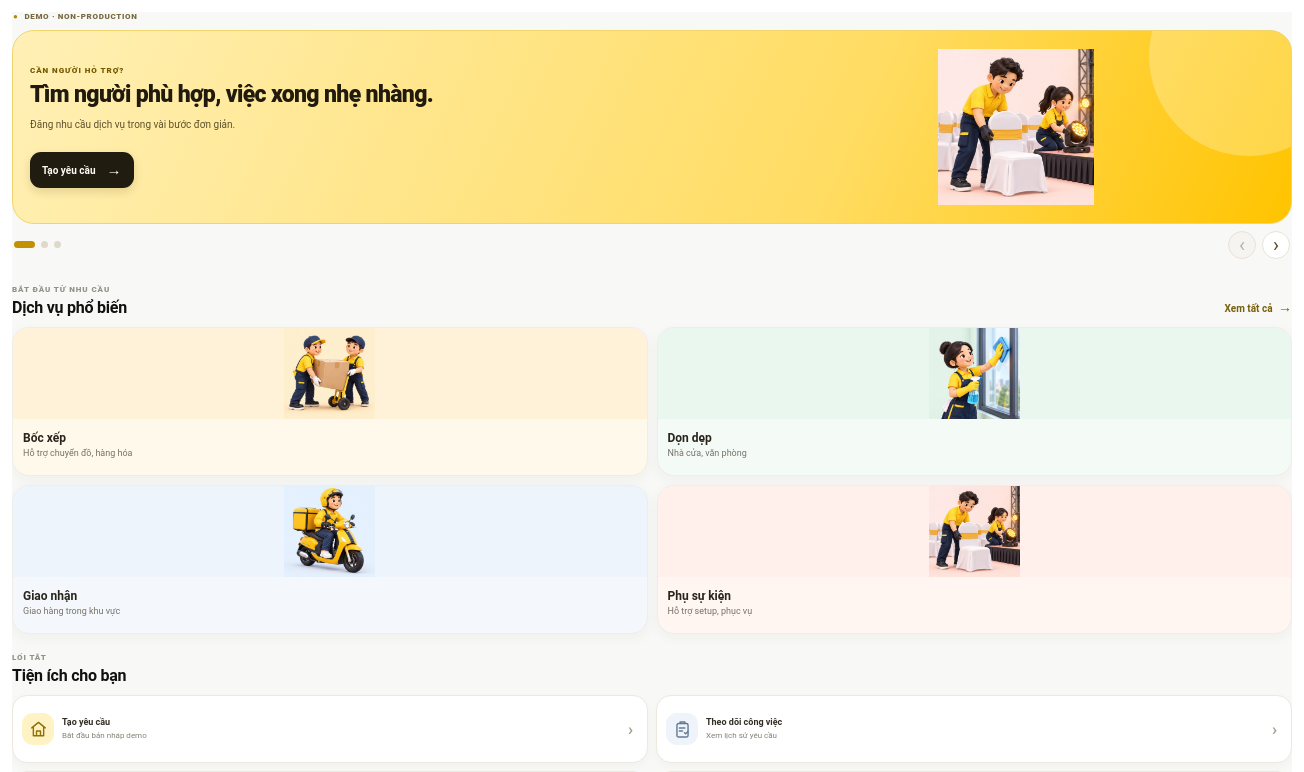
Employer Home marketplace refinement › keeps every banner title as complete natural-wrapping text with a local image source
Expected: the heading "Tìm người phù hợp, việc xong nhẹ nhàng." is shown, [30, 81, 433, 108]
Expected: the button "Tạo yêu cầu →" is shown, [30, 152, 134, 188]
Click the button named "Banner 2: Cần hỗ trợ bốc xếp?": point(44, 244) [41, 241, 48, 248]
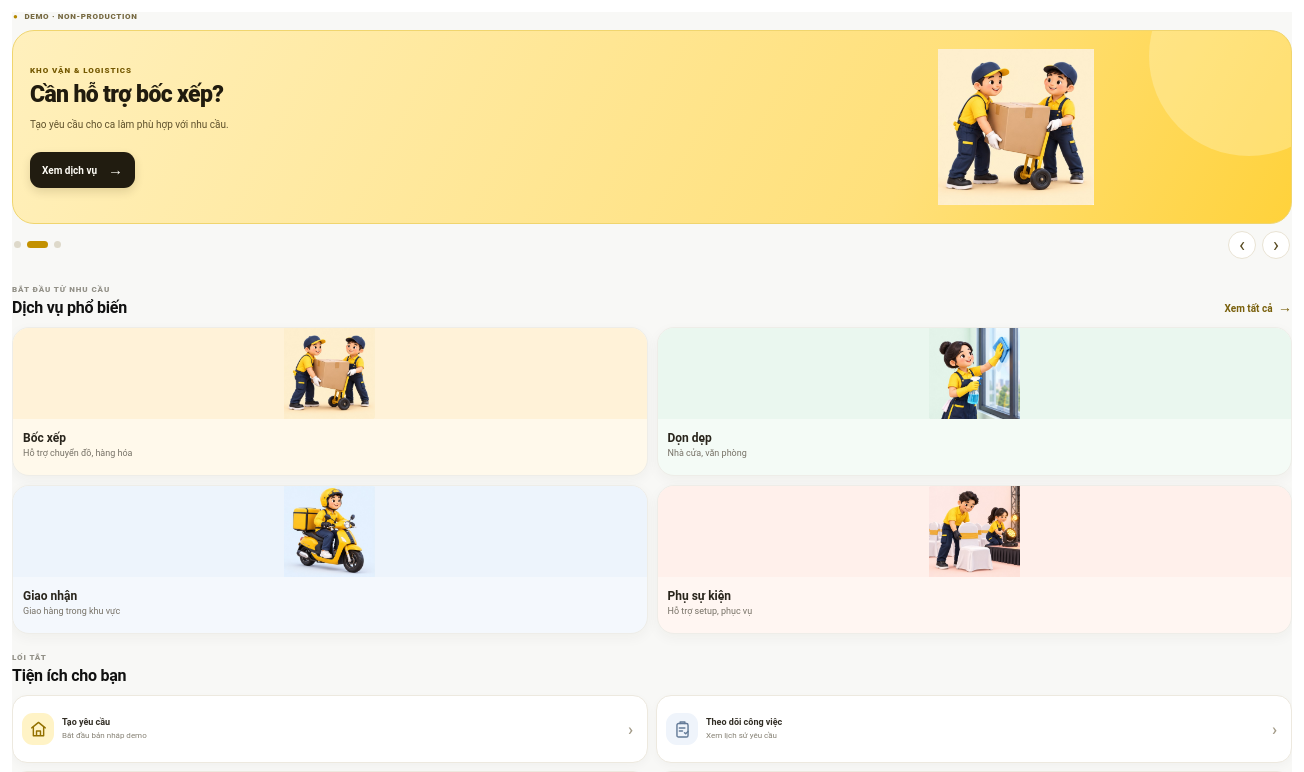
Now the heading "Cần hỗ trợ bốc xếp?" is shown, box [30, 81, 223, 108]
Now the button "Xem dịch vụ →" is shown, box [30, 152, 135, 188]
Click the button named "Banner 3: Thêm người hỗ trợ, công việc gọn hơn.": point(58, 244) [54, 241, 61, 248]
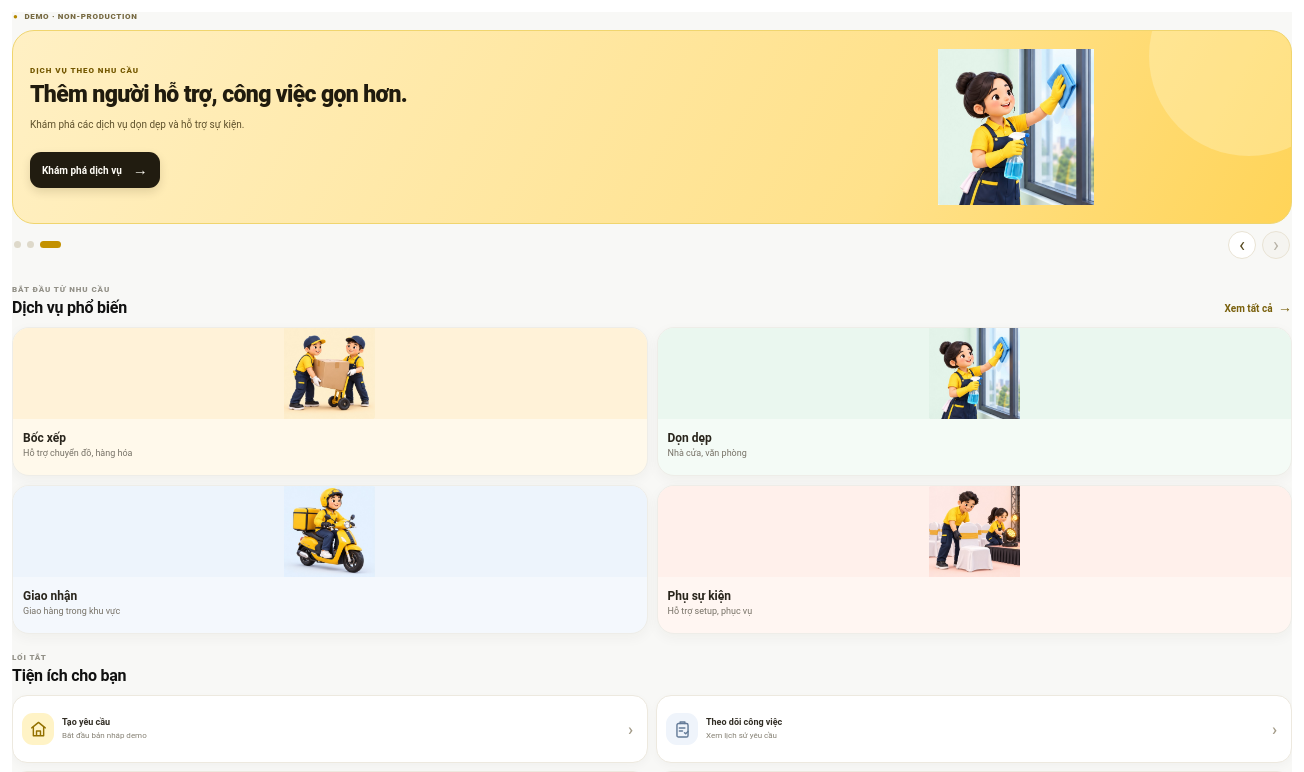
Now the heading "Thêm người hỗ trợ, công việc gọn hơn." is shown, box [30, 81, 407, 108]
Now the button "Khám phá dịch vụ →" is shown, box [30, 152, 160, 188]
